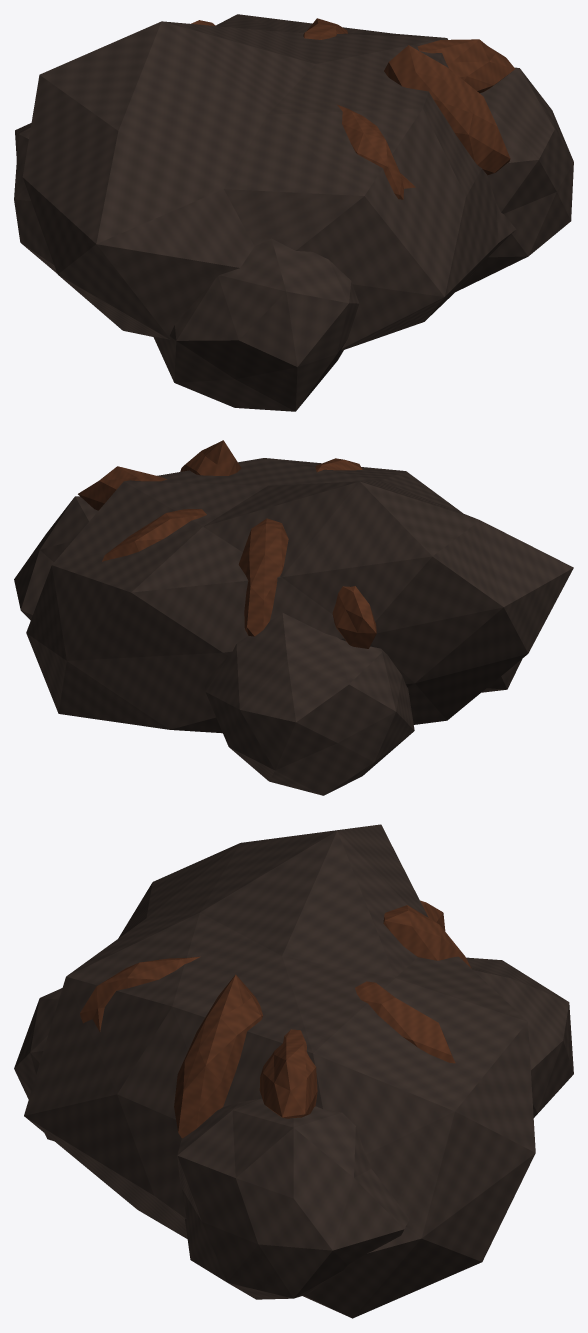
Rendered from underworld-resource-emberiron.glb.
The picture shows the model from 3 angles, top to bottom: view 1: azimuth 30°, elevation 25°; view 2: azimuth 150°, elevation 25°; view 3: azimuth 270°, elevation 25°; orthographic projection. The views are drawn at different scales.
Visible parts, largest first — view 1: host-rock, attached-matrix-2, attached-matrix-0, embedded-vein-5, embedded-vein-0, embedded-vein-2, attached-matrix-1, embedded-vein-3; view 2: host-rock, attached-matrix-1, embedded-vein-6, attached-matrix-0, embedded-vein-1, embedded-vein-3, embedded-vein-0, embedded-vein-5; view 3: host-rock, attached-matrix-0, embedded-vein-5, attached-matrix-1, embedded-vein-0, embedded-vein-3, embedded-vein-6, embedded-vein-2, attached-matrix-2.
Part boxes in pixels (x1,y1,x2,y2): host-rock: (22, 14, 516, 350); attached-matrix-2: (153, 238, 359, 411); attached-matrix-0: (456, 67, 573, 291); embedded-vein-5: (384, 45, 510, 175); embedded-vein-0: (417, 39, 514, 93); embedded-vein-2: (337, 104, 415, 199); attached-matrix-1: (14, 123, 57, 273); embedded-vein-3: (303, 18, 347, 39); host-rock: (26, 458, 573, 733); attached-matrix-1: (204, 612, 414, 795); embedded-vein-6: (238, 518, 288, 636); attached-matrix-0: (14, 496, 98, 620); embedded-vein-1: (332, 586, 376, 648); embedded-vein-3: (102, 509, 206, 561); embedded-vein-0: (78, 466, 166, 510); embedded-vein-5: (180, 440, 241, 475); host-rock: (24, 824, 535, 1318); attached-matrix-0: (177, 1098, 409, 1299); embedded-vein-5: (174, 974, 263, 1138); attached-matrix-1: (466, 957, 573, 1117); embedded-vein-0: (259, 1029, 317, 1118); embedded-vein-3: (355, 981, 455, 1063); embedded-vein-6: (383, 905, 471, 968); embedded-vein-2: (80, 956, 200, 1031); attached-matrix-2: (14, 988, 62, 1140).
Size of the model in its own units: 0.2537 by 0.1401 by 0.2141.
2 materials, 2 textured.
